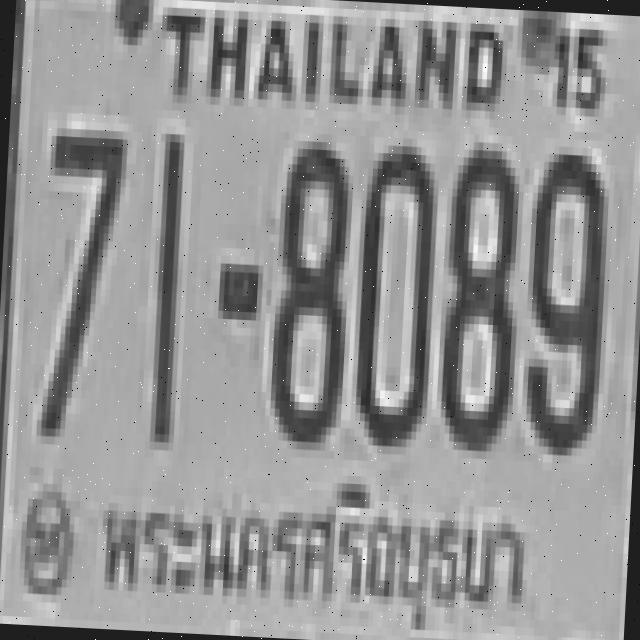0: (349, 137, 436, 440)
1: (145, 134, 185, 443)
7: (34, 124, 126, 436), (40, 120, 124, 352)
8: (434, 141, 522, 444), (264, 136, 351, 440)
9: (520, 146, 607, 448)
Ayutthaya: (91, 467, 550, 640)
